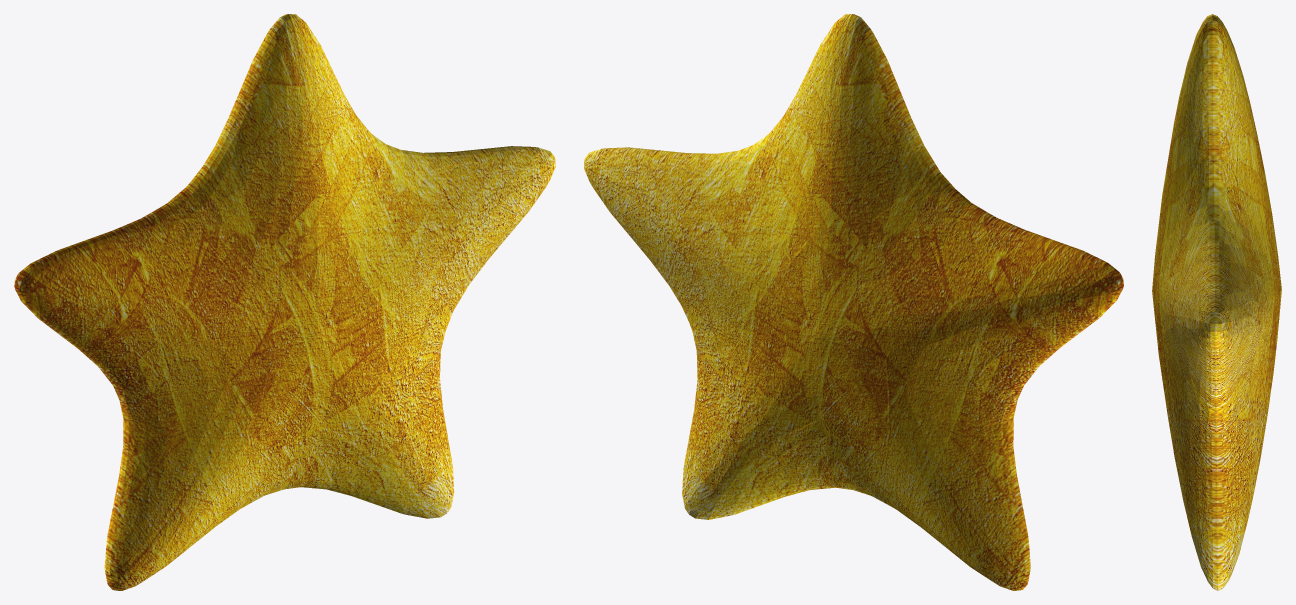
The model's file is gold3D.obj.
3 views of the same model, side by side, from view 1: azimuth 30°, elevation 25°; view 2: azimuth 150°, elevation 25°; view 3: azimuth 270°, elevation 25° (orthographic). The views are drawn at different scales.
Parts seen in each view (by area): view 1: Star01; view 2: Star01; view 3: Star01.
Boxes of the visible parts, box(x1,y1,x2,y2) form: Star01: box(14, 14, 555, 590); Star01: box(584, 14, 1123, 590); Star01: box(1152, 14, 1281, 590).
Bounding box in the file's own units: 129 × 124 × 28.76.
